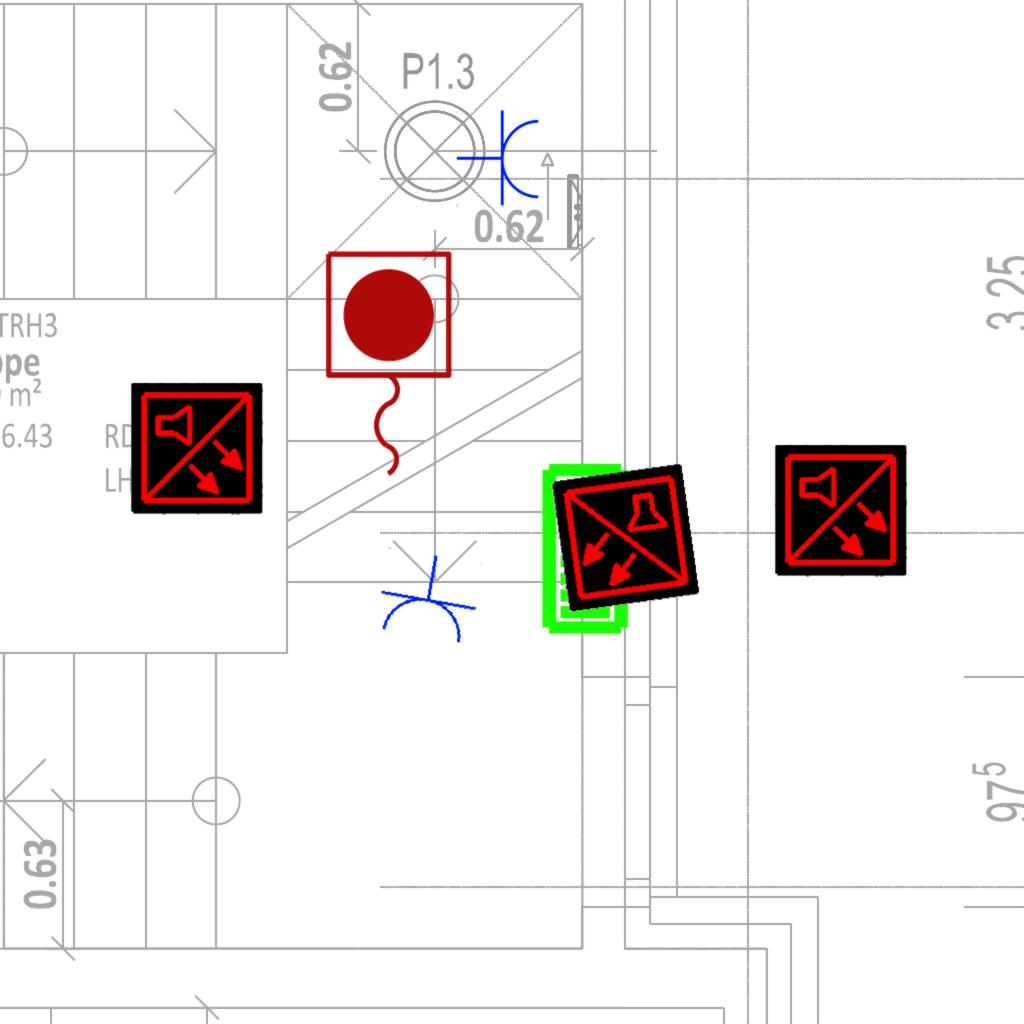Gegensprechanlage_mit_Video: (536, 460, 631, 636)
OKW_Multisensormelder_(Kombination_optischer_Rauch-Kahlenmonoxid_Waerme-Melder): (550, 463, 700, 613), (131, 383, 263, 515), (775, 445, 907, 577)
Schukosteckdose_einfach: (371, 545, 485, 650), (456, 109, 543, 209)
Zugtaster: (315, 243, 459, 487)
